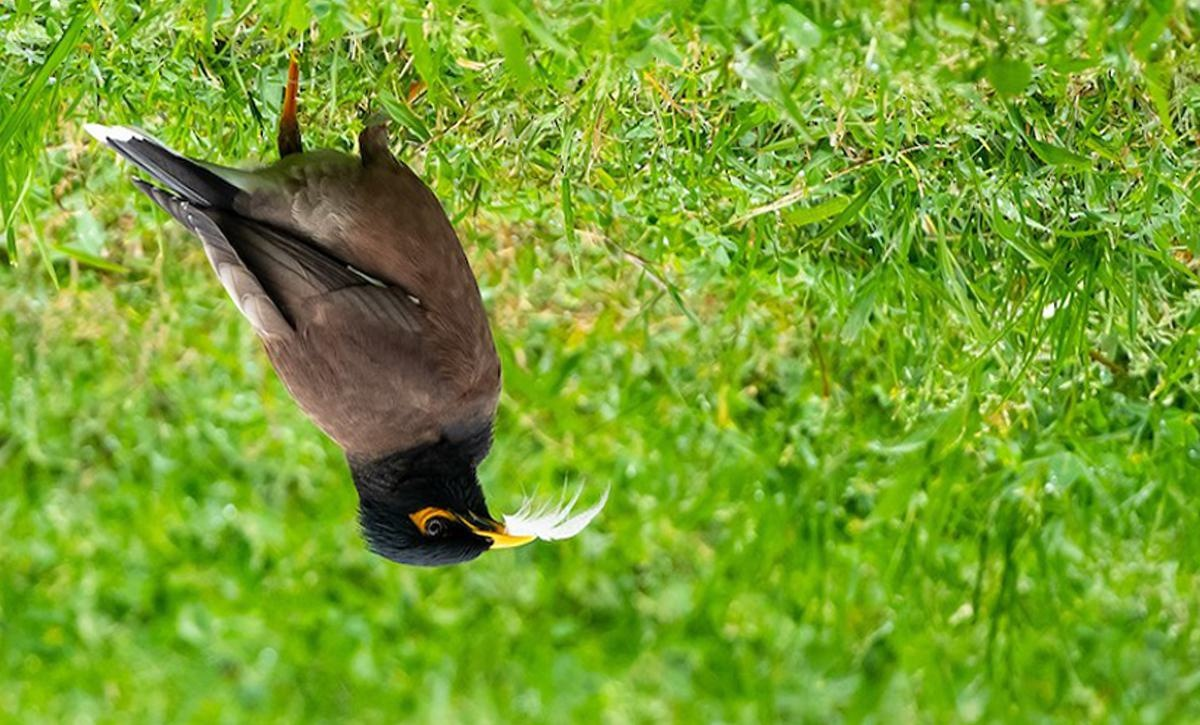myna: (105, 79, 556, 613)
